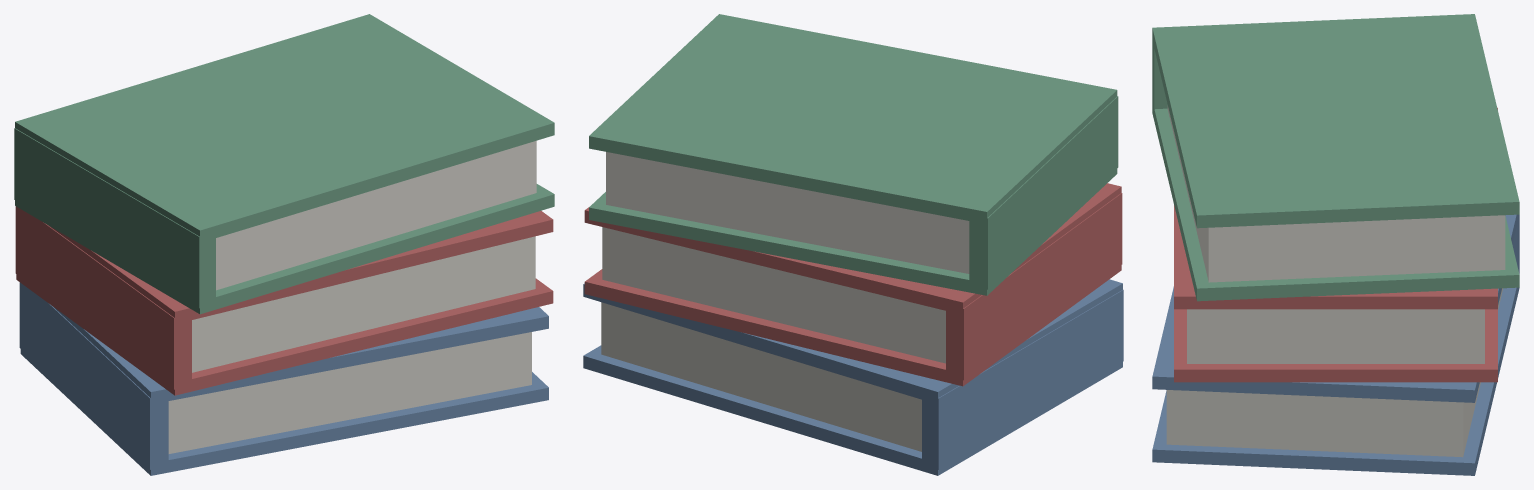
Rendered from book_stack.glb.
The picture shows the model from 3 angles, left to right: view 1: azimuth 30°, elevation 25°; view 2: azimuth 150°, elevation 25°; view 3: azimuth 270°, elevation 25°; orthographic projection. The views are drawn at different scales.
Parts seen in each view (by area): view 1: geometry_0; view 2: geometry_0; view 3: geometry_0.
Part boxes in pixels (left/top/right/bottom): geometry_0: left=14, top=14, right=554, bottom=475; geometry_0: left=583, top=14, right=1123, bottom=475; geometry_0: left=1152, top=14, right=1519, bottom=475.
Bounding box in the file's own units: 0.2727 × 0.164 × 0.2096.
